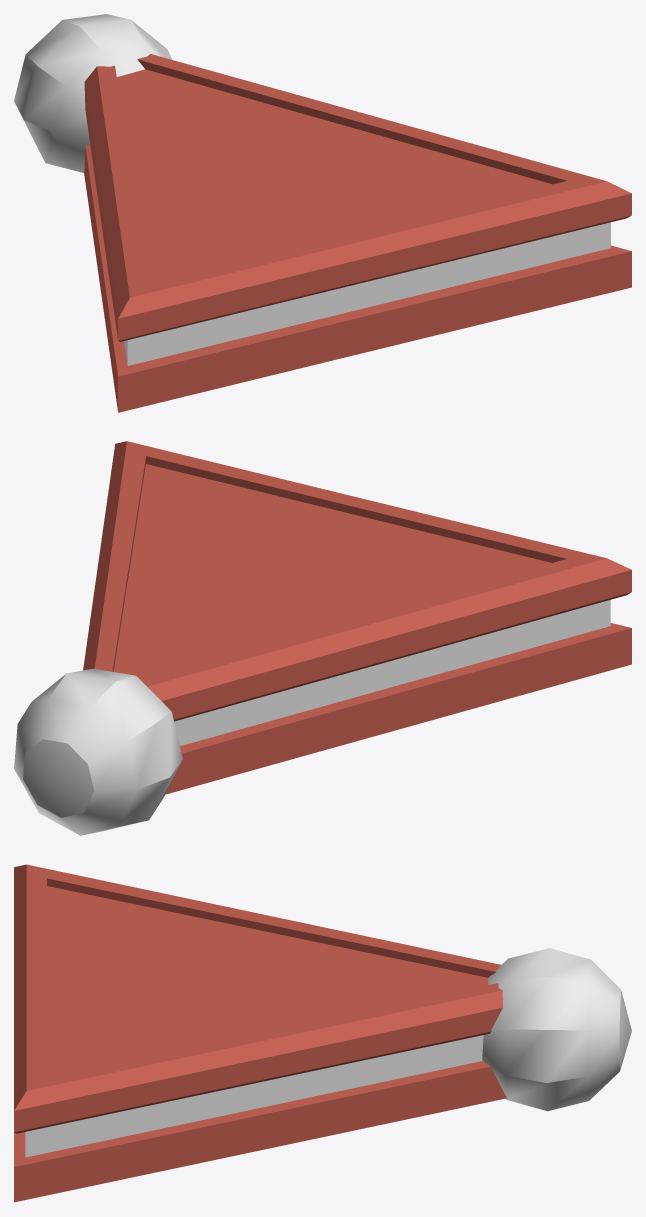
The model's file is Inverter_Gate.fbx.
3 renders of one model, top to bottom at view 1: azimuth 30°, elevation 25°; view 2: azimuth 150°, elevation 25°; view 3: azimuth 270°, elevation 25°, orthographic. The views are drawn at different scales.
Visible parts, largest first — view 1: Inverter Circuit; view 2: Inverter Circuit; view 3: Inverter Circuit.
Boxes of the visible parts, <box> form: Inverter Circuit: <box>14,14,631,412</box>; Inverter Circuit: <box>14,441,631,835</box>; Inverter Circuit: <box>14,864,631,1202</box>.
Bounding box in the file's own units: 200 × 56.41 × 214.
